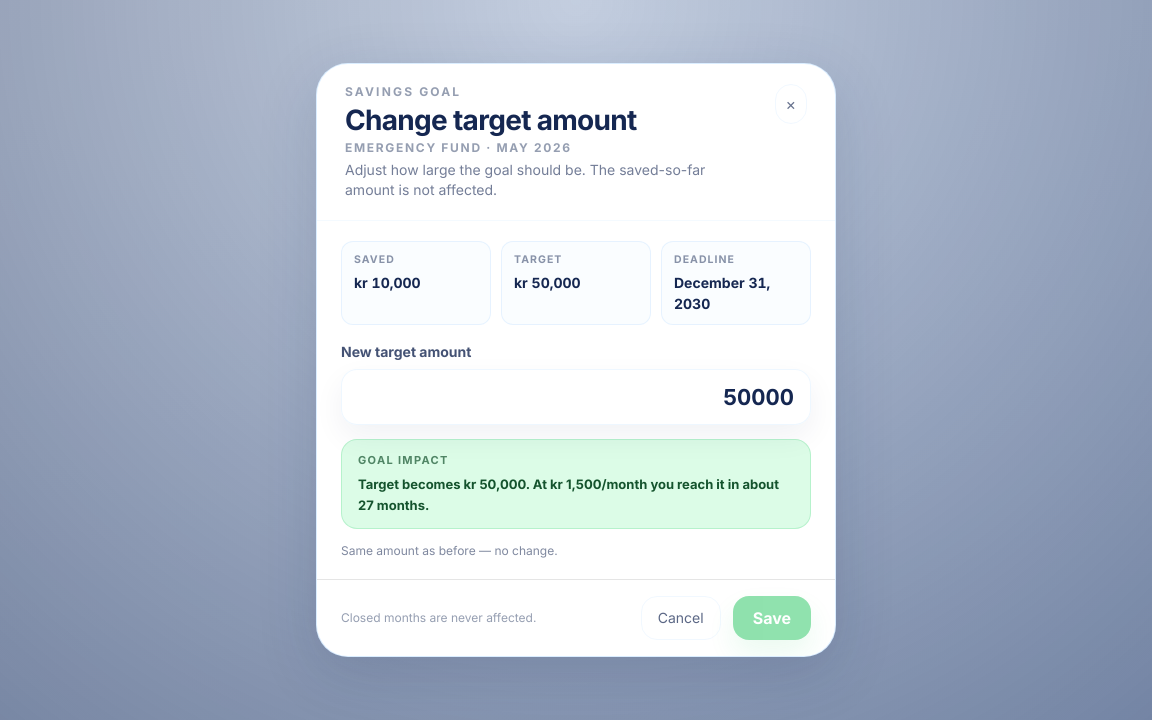
SavingsGoalTargetAmountModal › shows the outcome preview when the target is feasible
Replace the text in the field labelled "New target amount" with "55000". click: (576, 397)
box: x1=341 y1=369 x2=811 y2=425
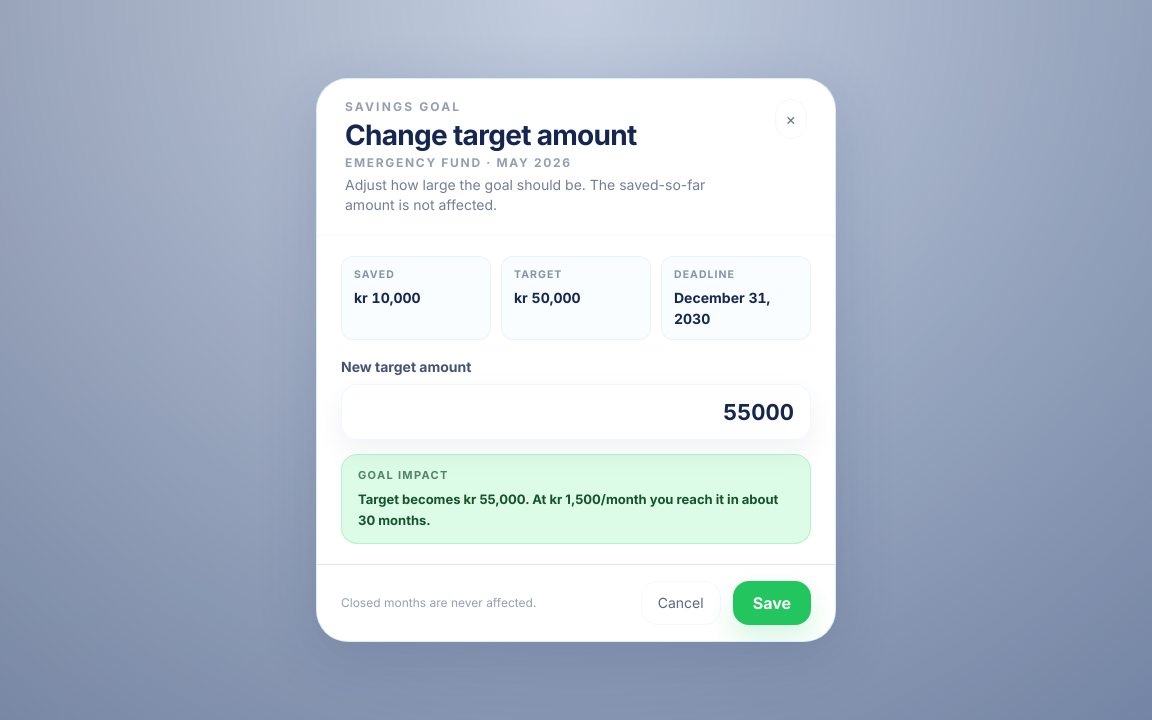
Expected: the message with test id "savings-goal-target-amount-outcome" shows "30 months", x1=358 y1=491 x2=778 y2=528
